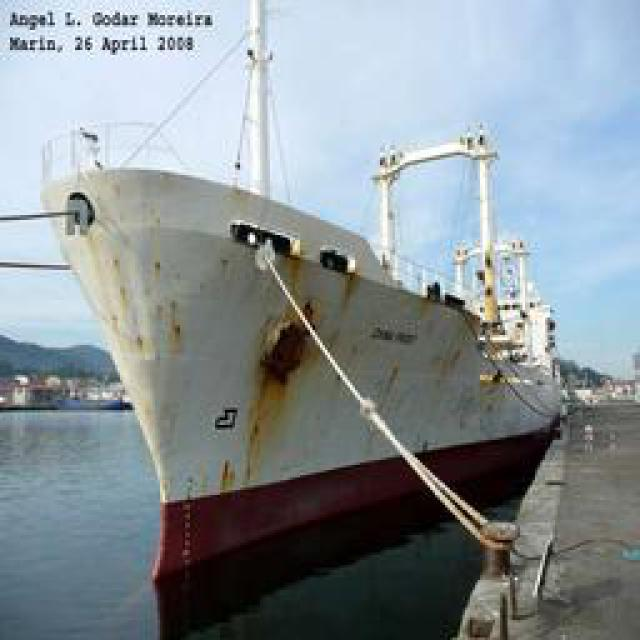Ship: (31, 36, 572, 640)
